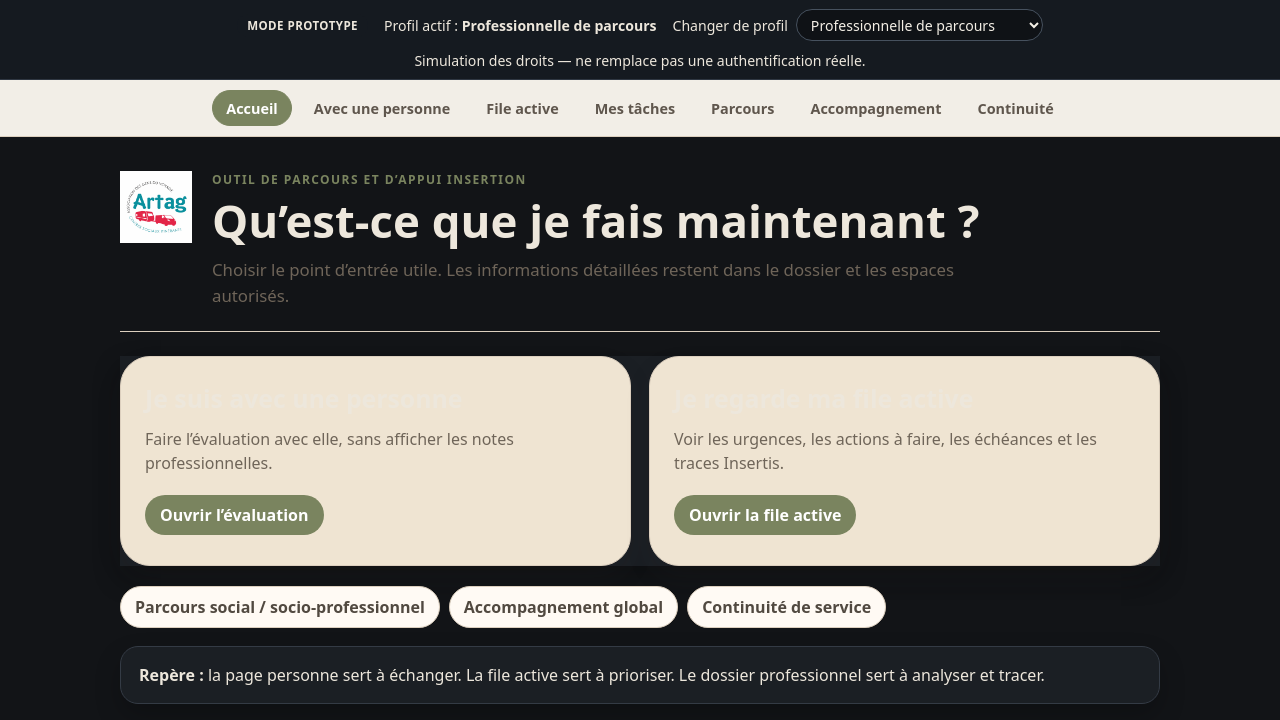
navigation principale › adapte les accès visibles quand le profil change
The width and height of the screenshot is (1280, 720).
Select "Direction" in the dropdown labelled "Changer de profil". click: (919, 25)
box: x1=796 y1=9 x2=1043 y2=41
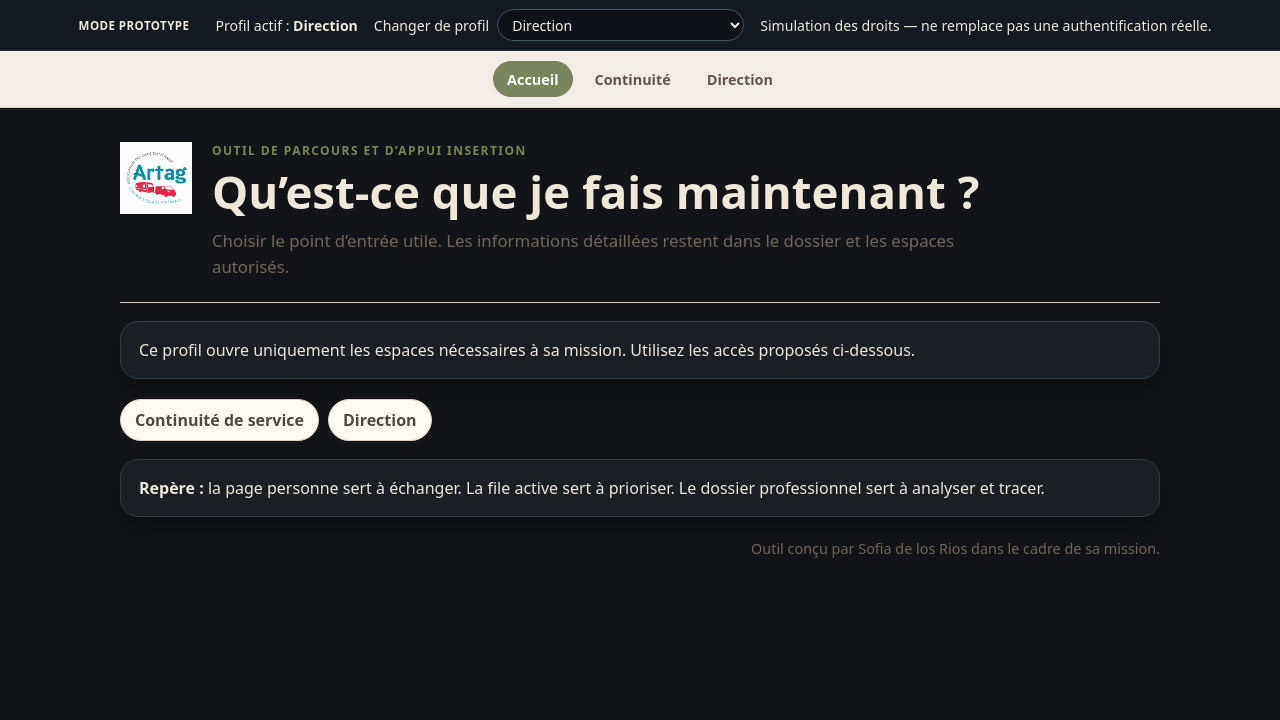
Expected: the number of links "Direction" is 2, x1=707 y1=70 x2=773 y2=88; x1=328 y1=399 x2=432 y2=441
